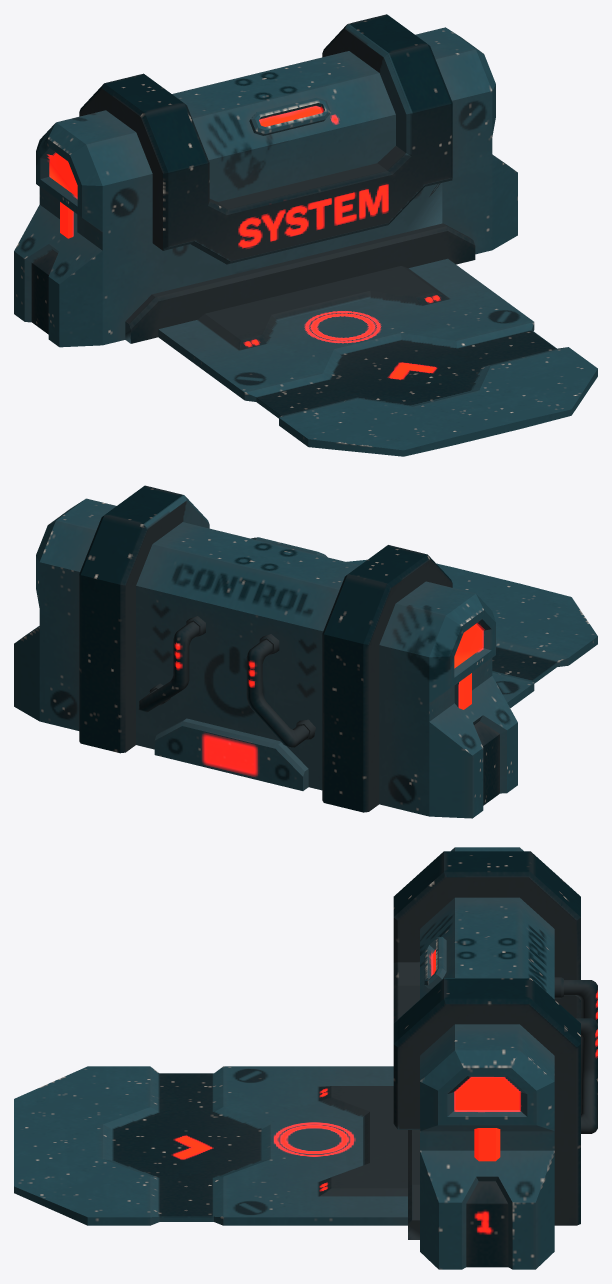
Rendered from terminal.glb.
3 views of the same model, one above another, from view 1: azimuth 30°, elevation 25°; view 2: azimuth 150°, elevation 25°; view 3: azimuth 270°, elevation 25° (orthographic). The views are drawn at different scales.
Parts seen in each view (by area): view 1: Terminal_001.001; view 2: Terminal_001.001; view 3: Terminal_001.001.
Part boxes in pixels (x1,y1,x2,y2): Terminal_001.001: (14,14,597,456); Terminal_001.001: (14,485,597,818); Terminal_001.001: (14,847,597,1269).
Size of what is drawn, in the model's own units: 3 by 1.32 by 3.1.
1 material, 1 textured.
